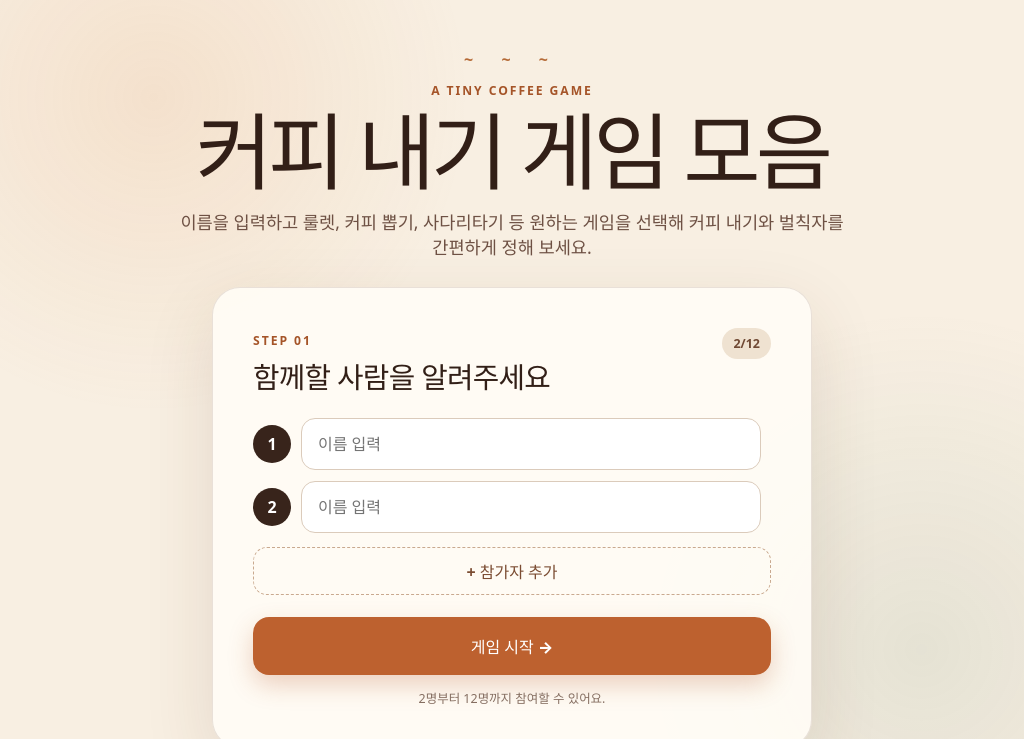
App › opens 아슬아슬 커피, exposes a working game control, and updates its URL
The image size is (1024, 739).
Type "Mina" into the 1st field with placeholder "이름 입력" at (531, 444), box [301, 418, 761, 470]
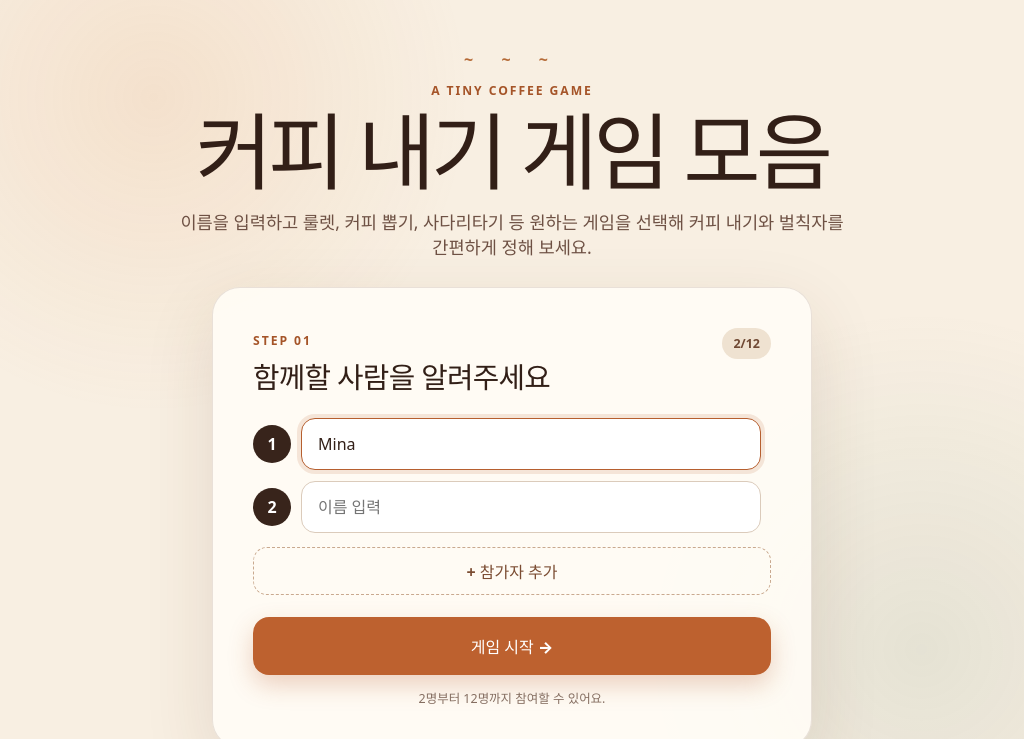
Type "Joon" into the field with placeholder "이름 입력" at (531, 507), box [301, 481, 761, 533]
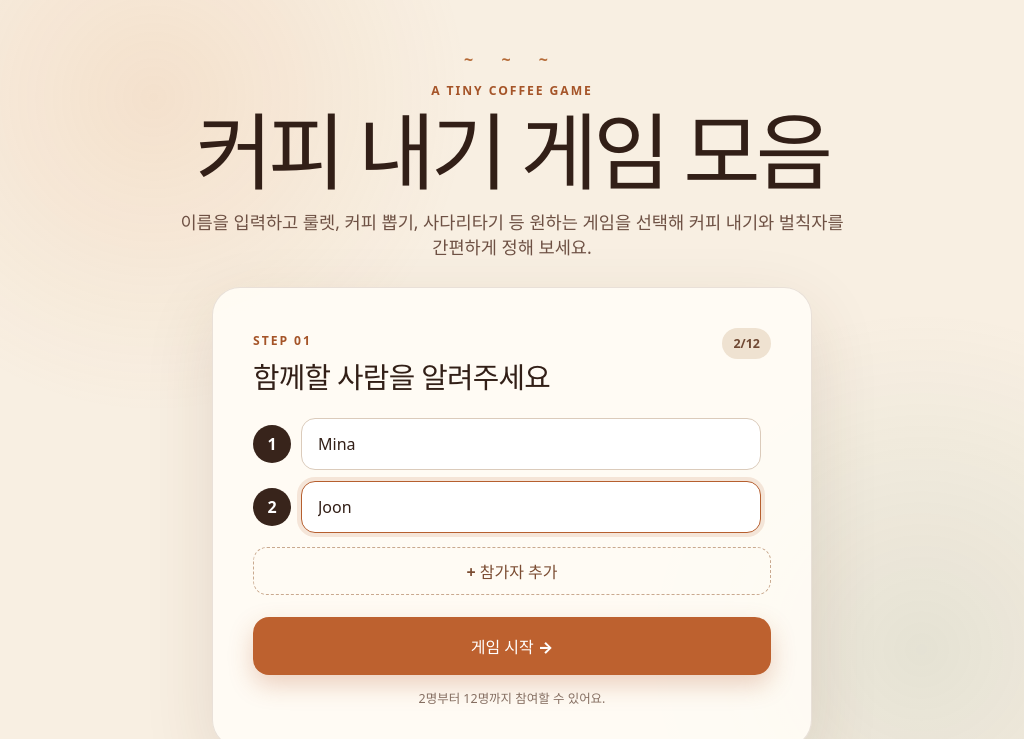
Click the button "게임 시작 →" at (512, 646), box [253, 617, 771, 675]
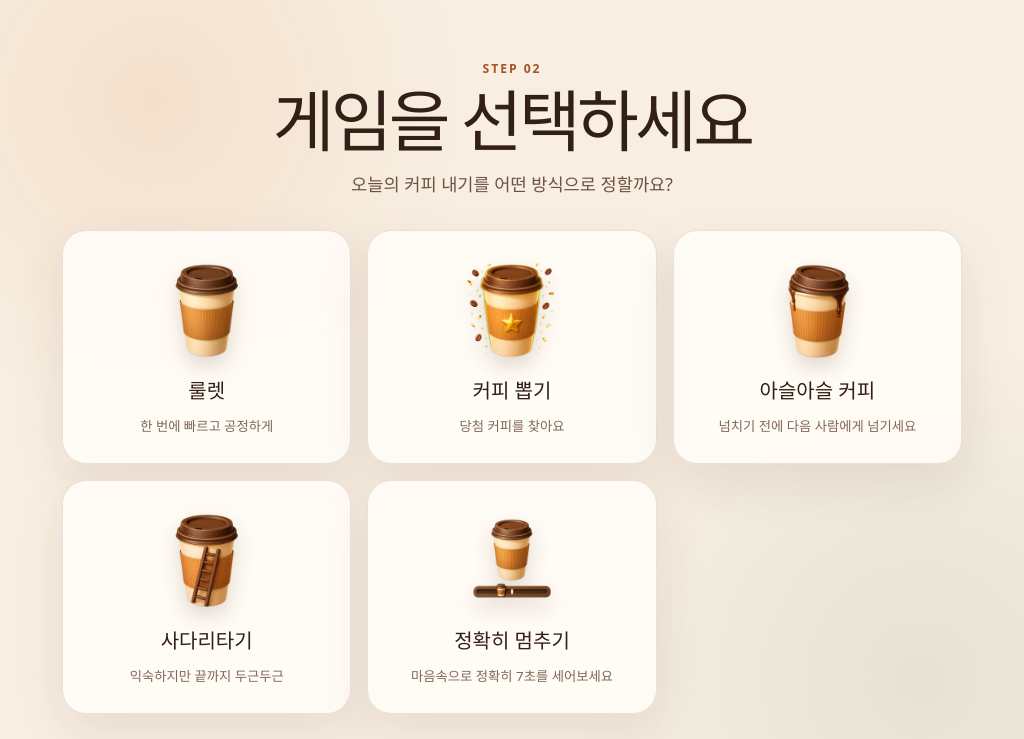
Click the button "아슬아슬 커피 넘치기 전에 다음 사람에게 넘기세요" at (817, 347), box [673, 230, 962, 464]
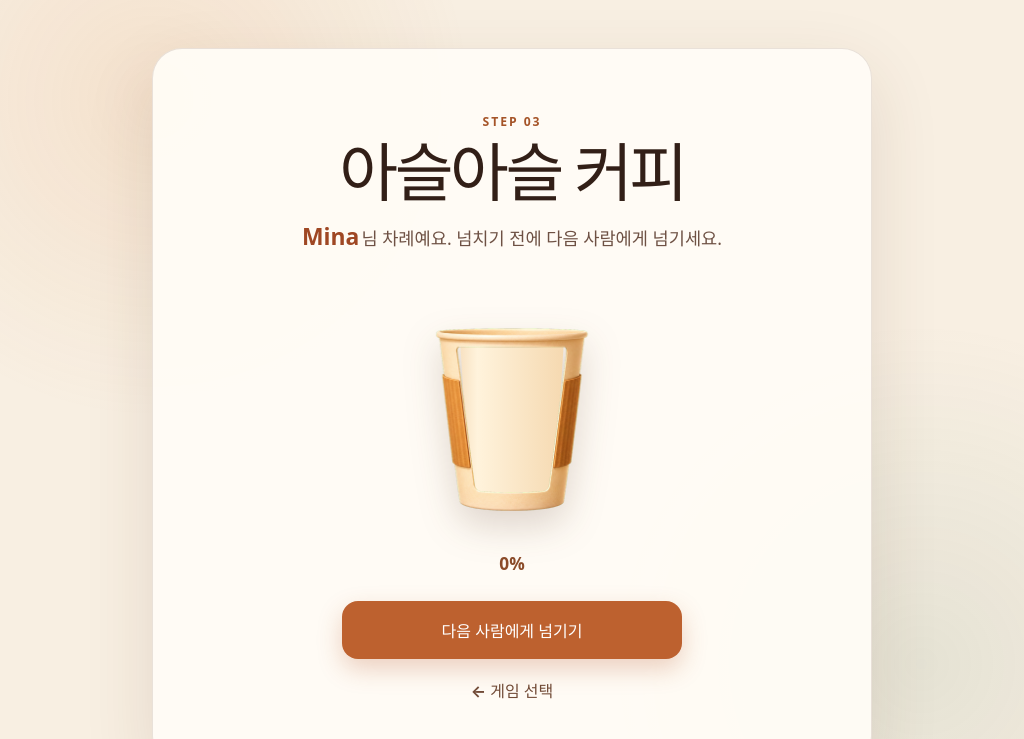
expect the heading "아슬아슬 커피" is shown: met, box [339, 128, 685, 215]
expect the button "다음 사람에게 넘기기" is shown: met, box [342, 601, 682, 659]
